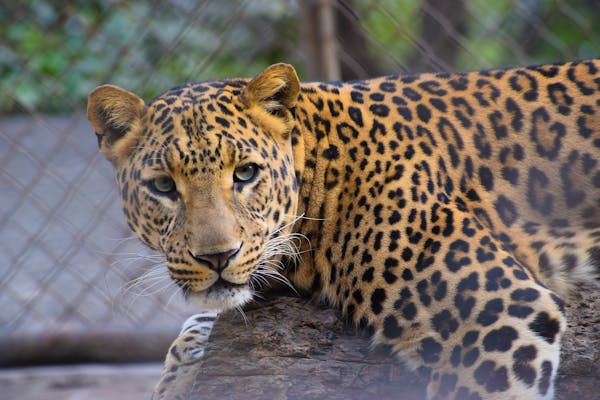Leopard: (86, 59, 600, 400)
